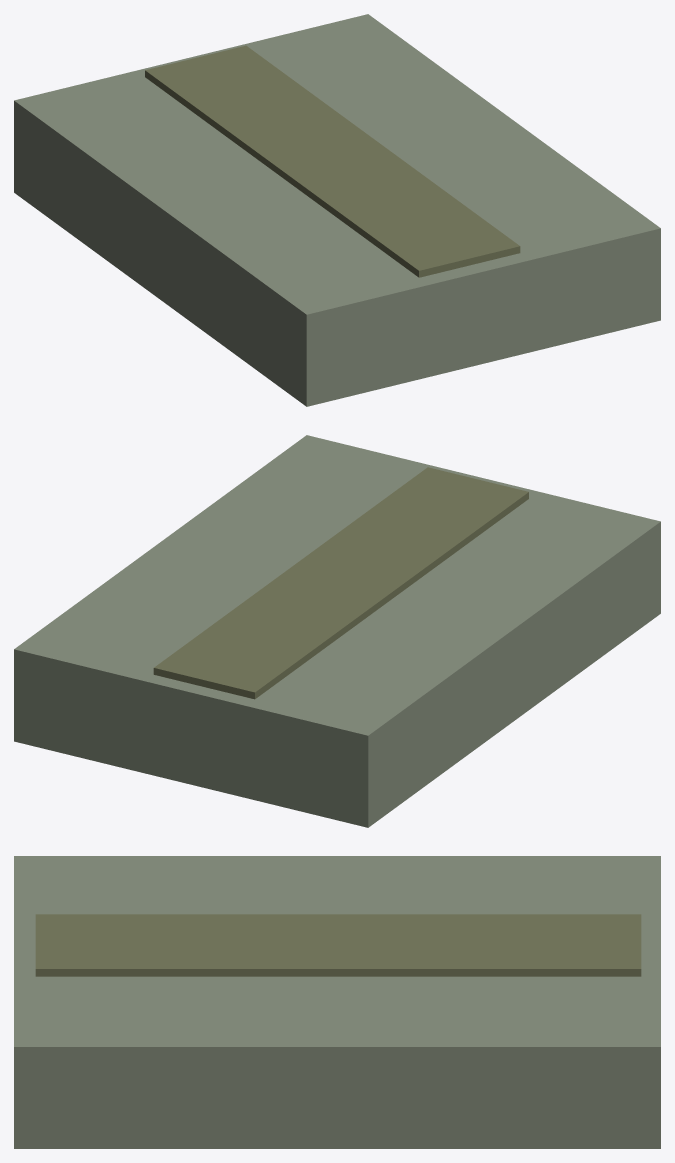
Rendered from RoadSegmentShort.dae.
3 renders of one model, top to bottom at view 1: azimuth 30°, elevation 25°; view 2: azimuth 150°, elevation 25°; view 3: azimuth 270°, elevation 25°, orthographic. The views are drawn at different scales.
Visible parts, largest first — view 1: Cube, Cube_001; view 2: Cube, Cube_001; view 3: Cube, Cube_001.
Boxes of the visible parts, left/top/right/bottom form: Cube: left=14, top=14, right=660, bottom=406; Cube_001: left=145, top=45, right=520, bottom=277; Cube: left=14, top=435, right=660, bottom=827; Cube_001: left=153, top=467, right=528, bottom=699; Cube: left=14, top=856, right=660, bottom=1148; Cube_001: left=35, top=914, right=641, bottom=976.
Bounding box in the file's own units: 7 × 10.02 × 1.87.
